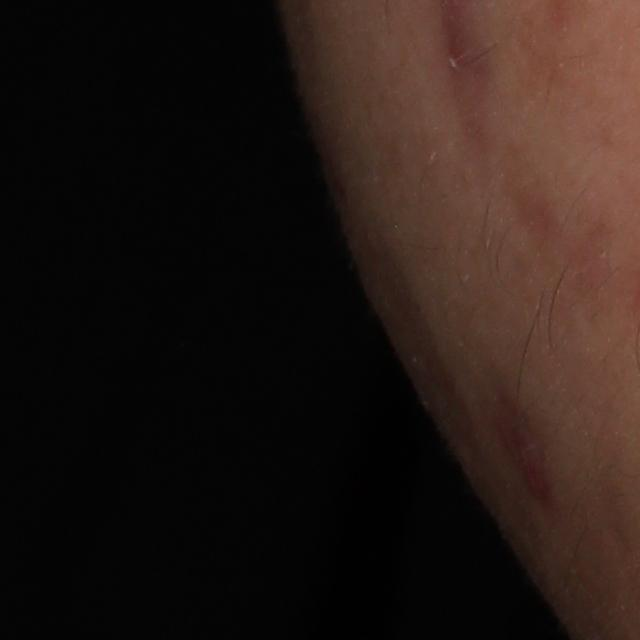papule: (508, 432, 553, 507)
